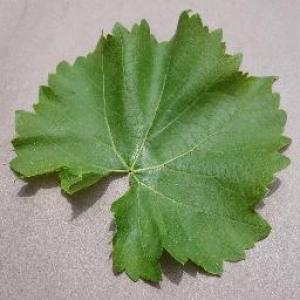Folha: (8, 8, 292, 282)
